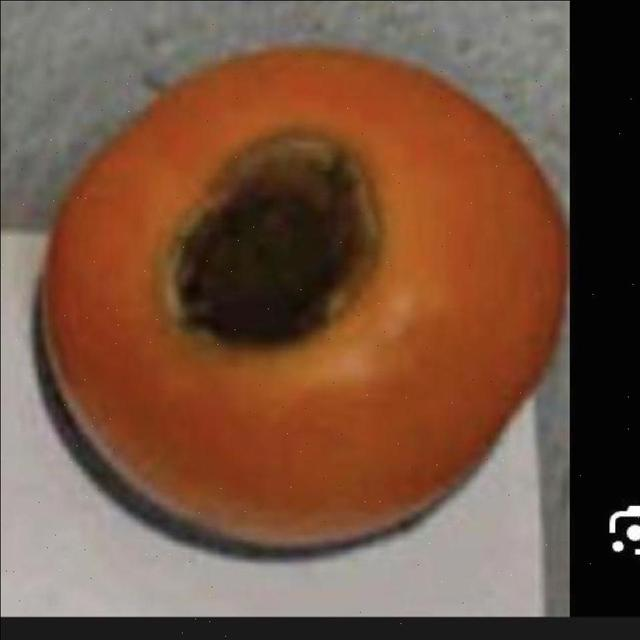Blossom End Rot Fruit: (106, 81, 253, 233)
